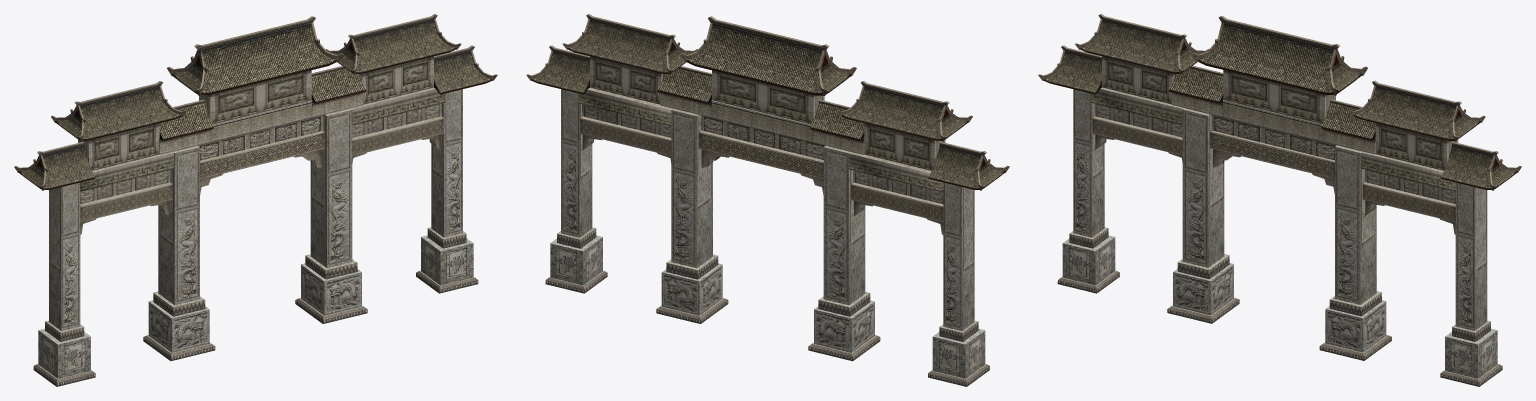
The model's file is b1-034-stonedoor.fbx.
3 views of the same model, side by side, from view 1: azimuth 30°, elevation 25°; view 2: azimuth 150°, elevation 25°; view 3: azimuth 330°, elevation 25° (orthographic).
Visible parts, largest first — view 1: b1-034-stonedoor-01, b1-034-stonedoor-02; view 2: b1-034-stonedoor-01, b1-034-stonedoor-02; view 3: b1-034-stonedoor-01, b1-034-stonedoor-02.
Boxes of the visible parts, x1,y1,x2,y2 form: b1-034-stonedoor-01: (14, 14, 497, 386); b1-034-stonedoor-02: (78, 56, 445, 234); b1-034-stonedoor-01: (526, 14, 1009, 386); b1-034-stonedoor-02: (577, 56, 945, 234); b1-034-stonedoor-01: (1038, 14, 1521, 386); b1-034-stonedoor-02: (1091, 56, 1458, 234).
Size of the model in its own units: 29.7 by 18.41 by 3.51.
